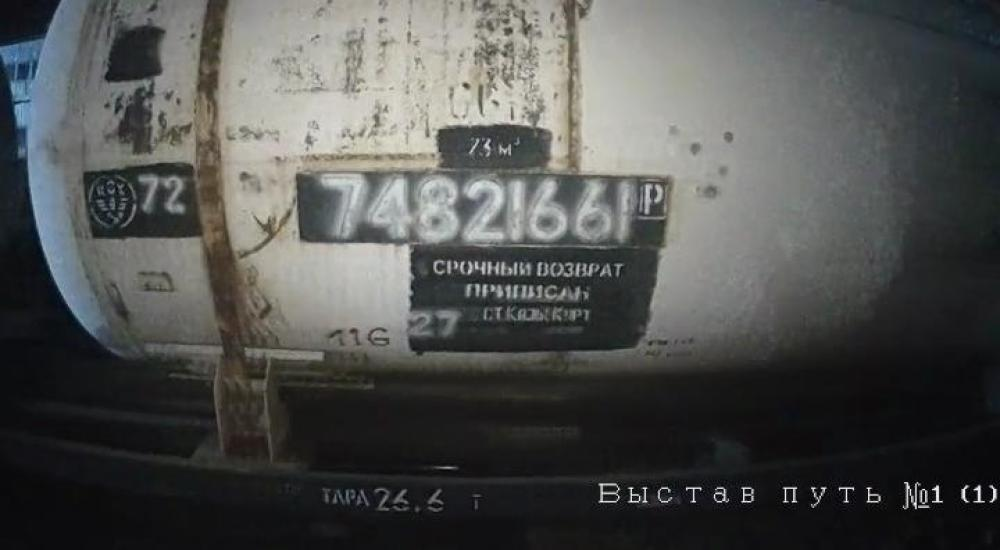Wagon-number: (316, 171, 634, 248)
